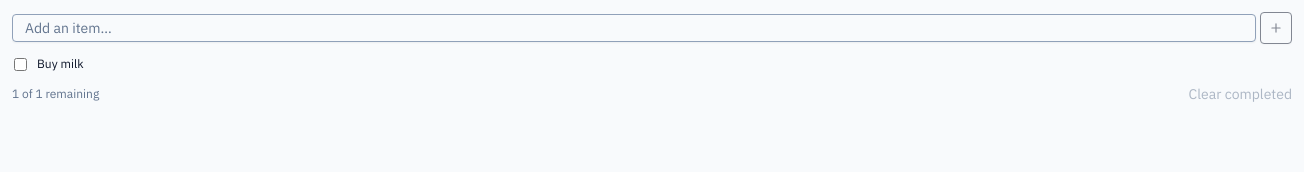
TodoListWidget › adds an item by pressing Enter
Type "Walk the dog" into the field named "new to-do item" at (634, 28), box [12, 14, 1256, 42]
Then press Enter
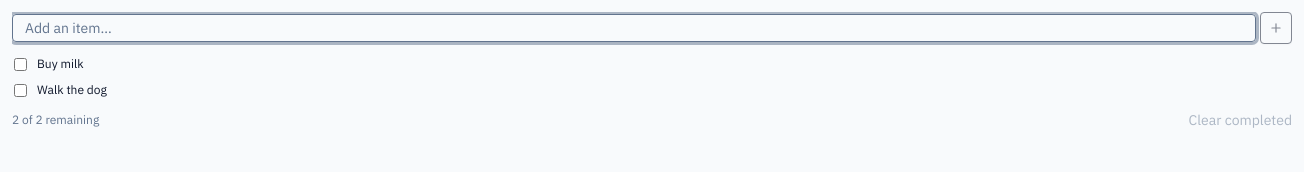
Result: the field showing "Walk the dog" is shown at [33, 80, 1254, 100]
